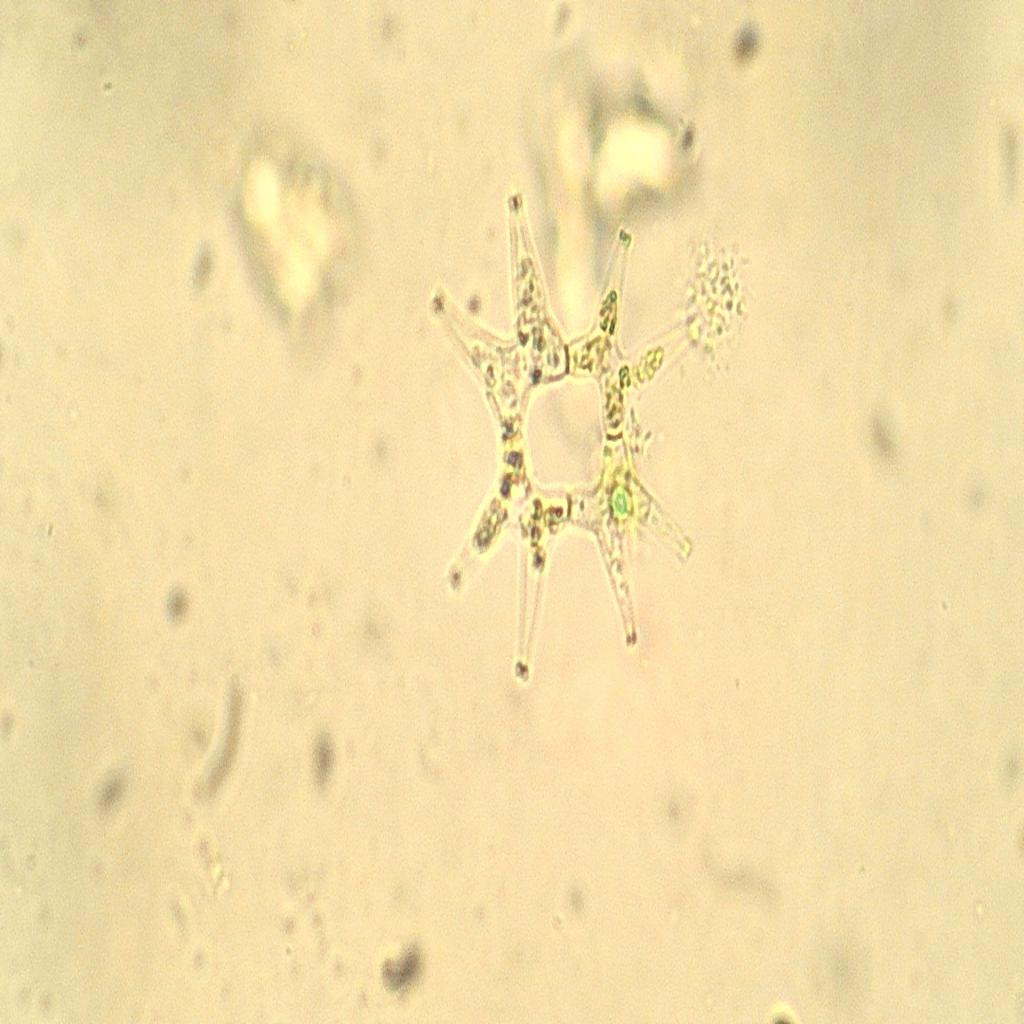Pediastrum_75TH: (413, 161, 714, 716)
